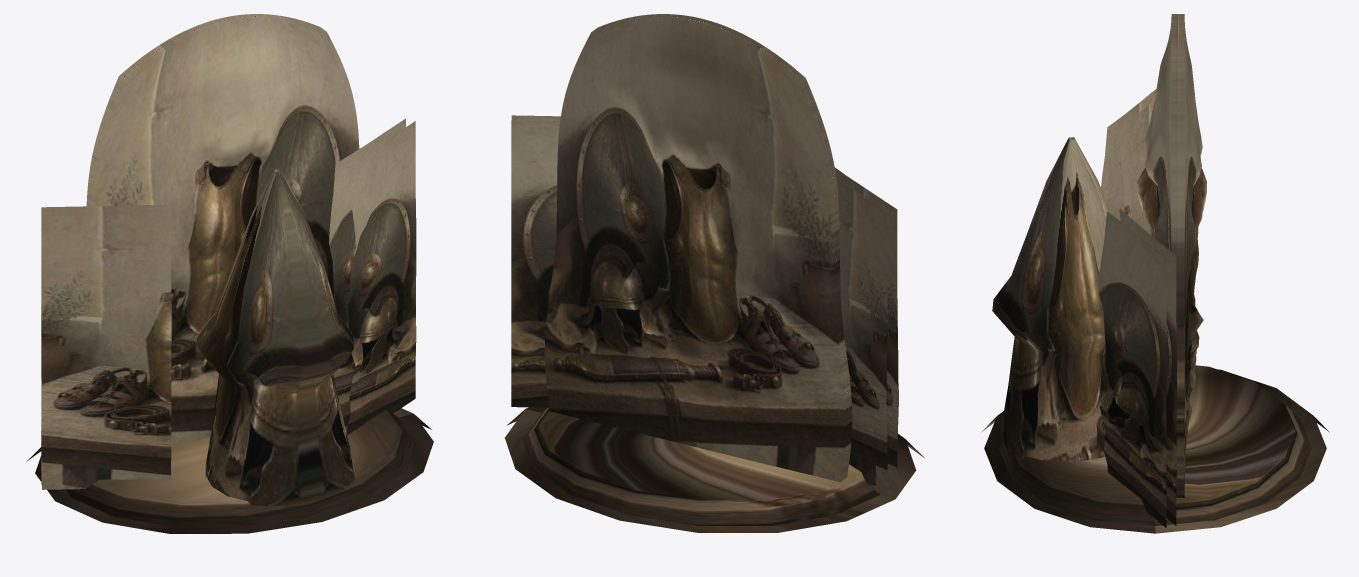
The model's file is rooted-and-free-39.glb.
3 renders of one model, left to right at view 1: azimuth 30°, elevation 25°; view 2: azimuth 150°, elevation 25°; view 3: azimuth 270°, elevation 25°, orthographic. The views are drawn at different scales.
Parts seen in each view (by area): view 1: PaintingSculptureMonument; view 2: PaintingSculptureMonument; view 3: PaintingSculptureMonument.
Part boxes in pixels (x1,y1,x2,y2): PaintingSculptureMonument: (26, 14, 433, 533); PaintingSculptureMonument: (505, 14, 925, 532); PaintingSculptureMonument: (981, 14, 1329, 533).
Bounding box in the file's own units: 2.76 × 2.99 × 2.35.
1 material, 1 textured.
